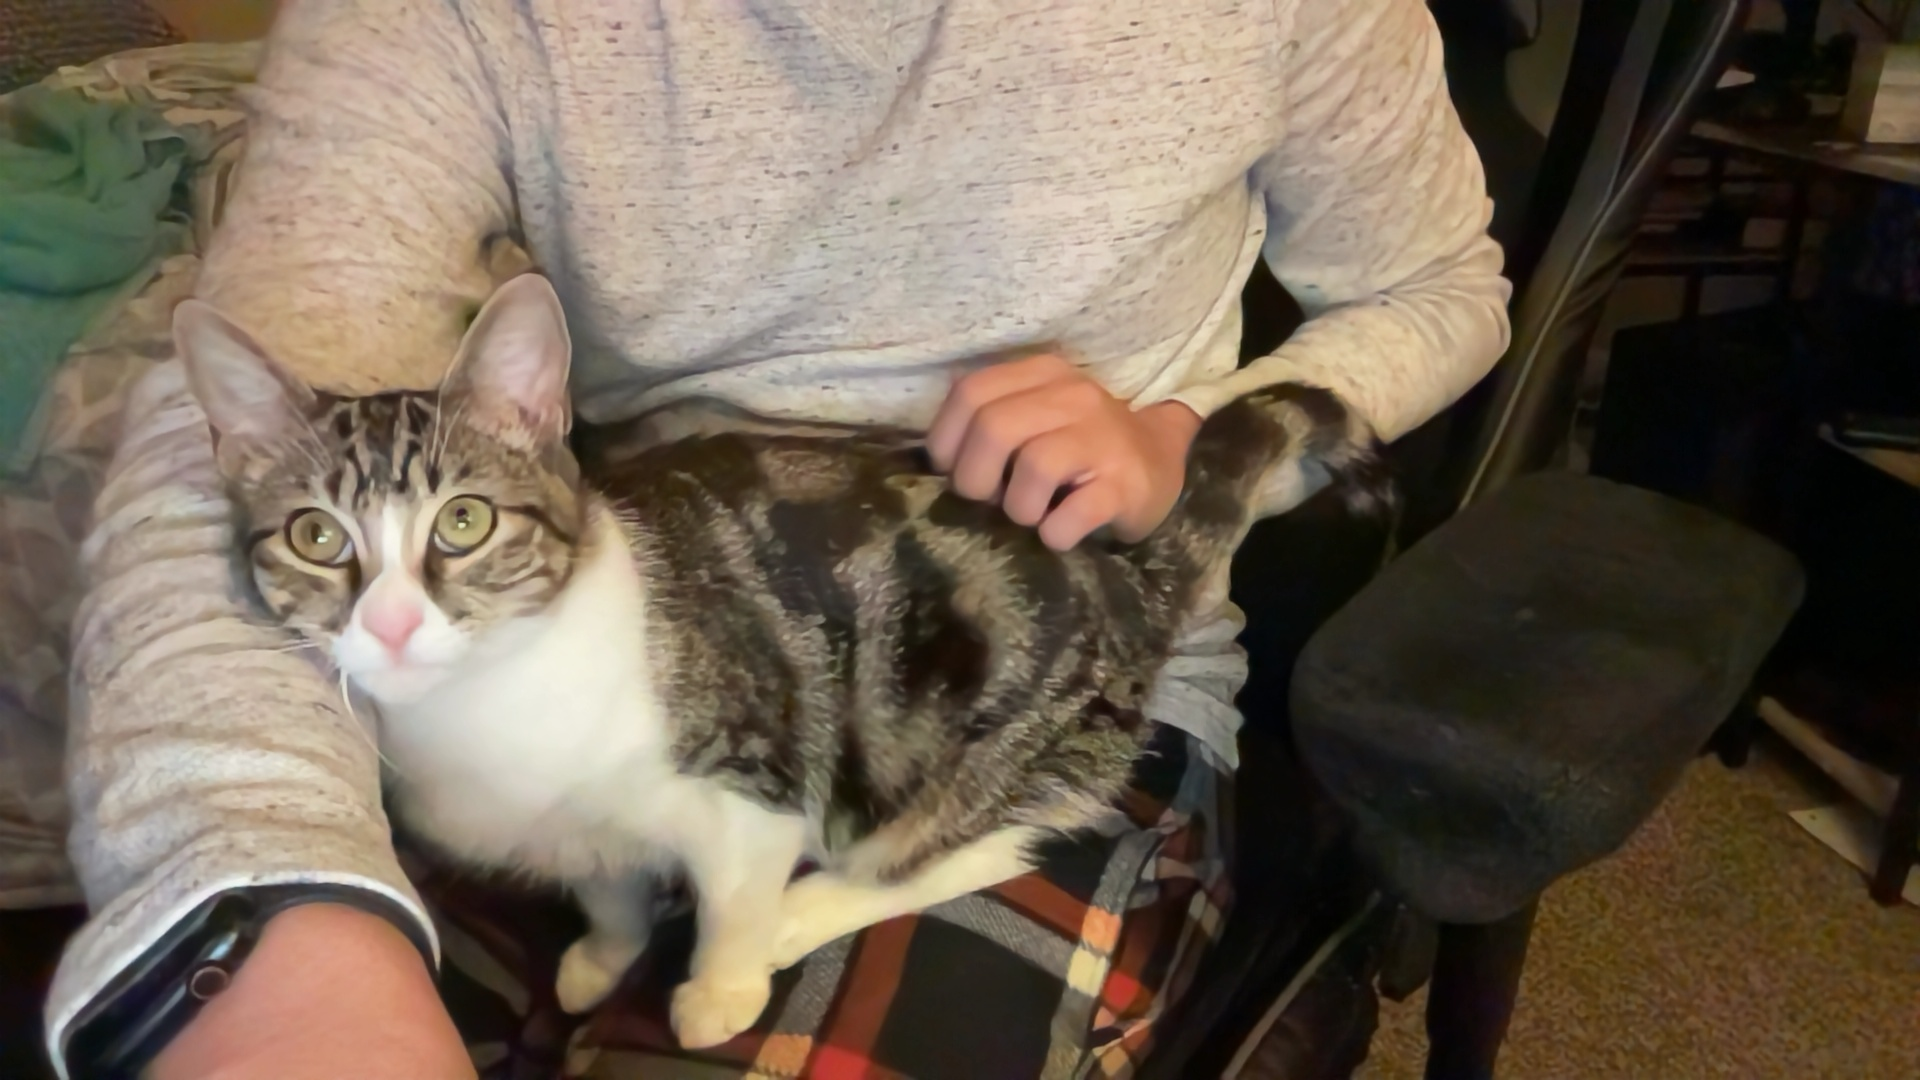cat: (161, 269, 1402, 1080)
